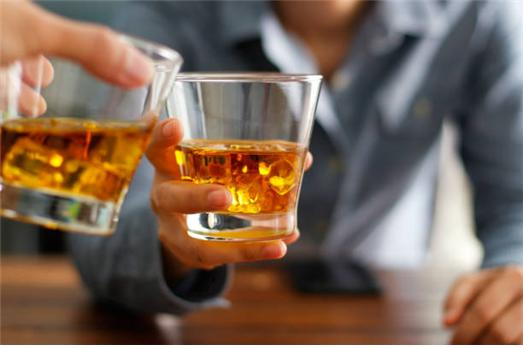alcohol: (0, 29, 188, 237), (161, 74, 326, 242)
